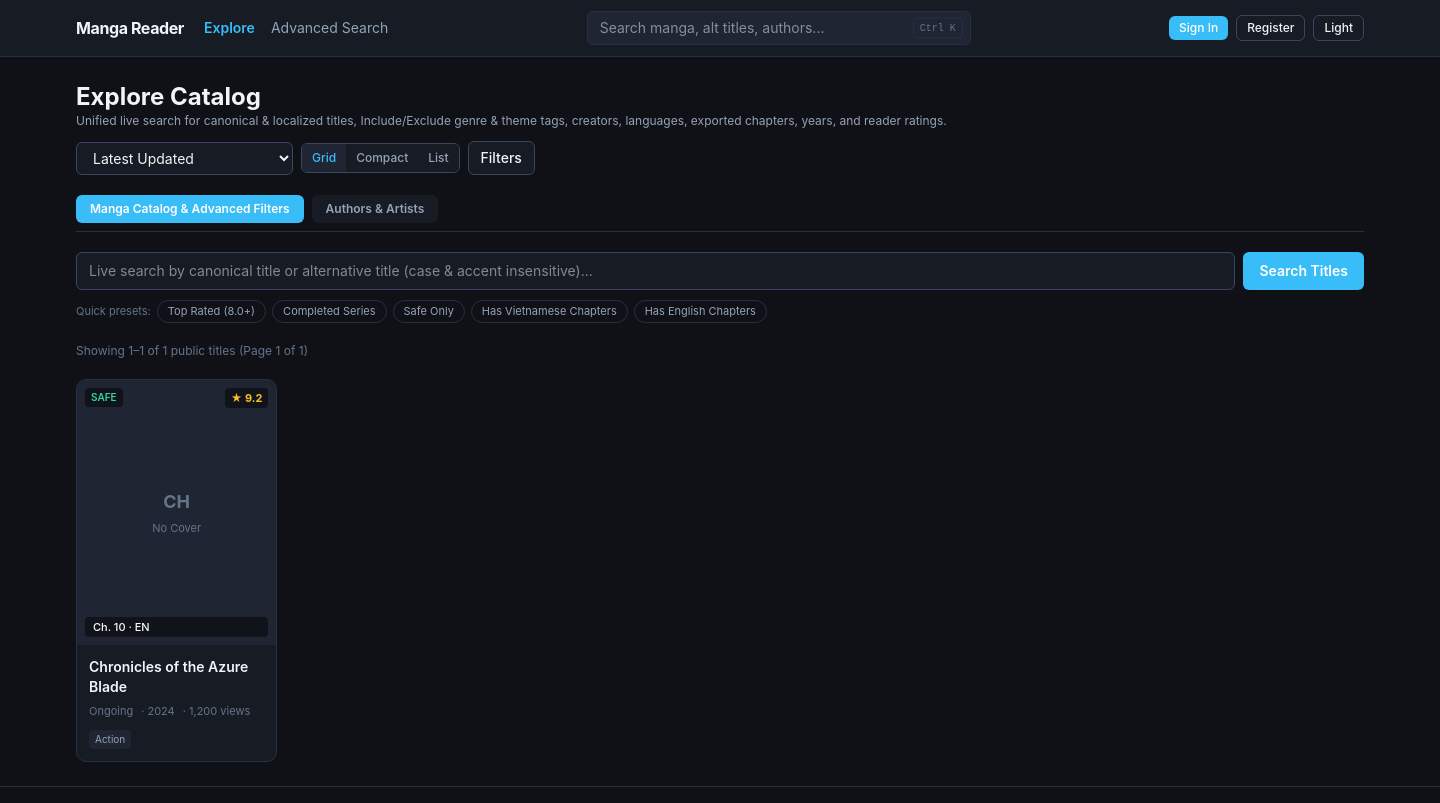
it: Manga Reader Frontend Application › renders explore filter drawer and tags from catalog API
Expected: the heading "Explore Catalog" is shown, x1=76 y1=82 x2=261 y2=111
What coordinates should you click on to do the following:
click the button "Filters"
I would click on:
 (501, 158)
Its box is x1=468 y1=141 x2=535 y2=175.
(page scrolled)
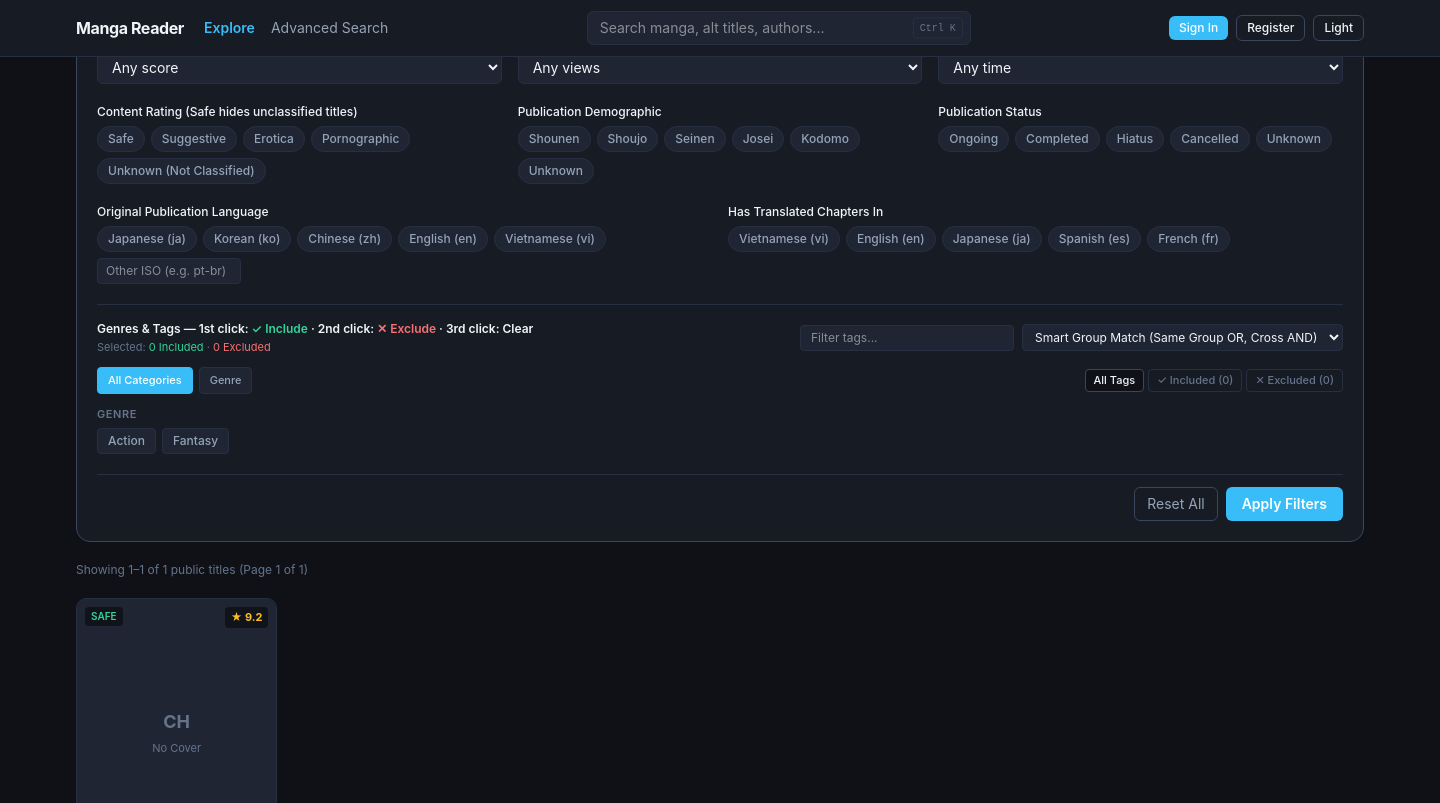
Expected: the button "Apply Filters" is shown, x1=1226 y1=487 x2=1343 y2=521
Expected: the button with aria-label "Action (Not selected)" is shown
What coordinates should you click on to do the following:
click the button with aria-label "Action (Not selected)"
I would click on:
 (126, 441)
Its box is x1=97 y1=428 x2=156 y2=454.
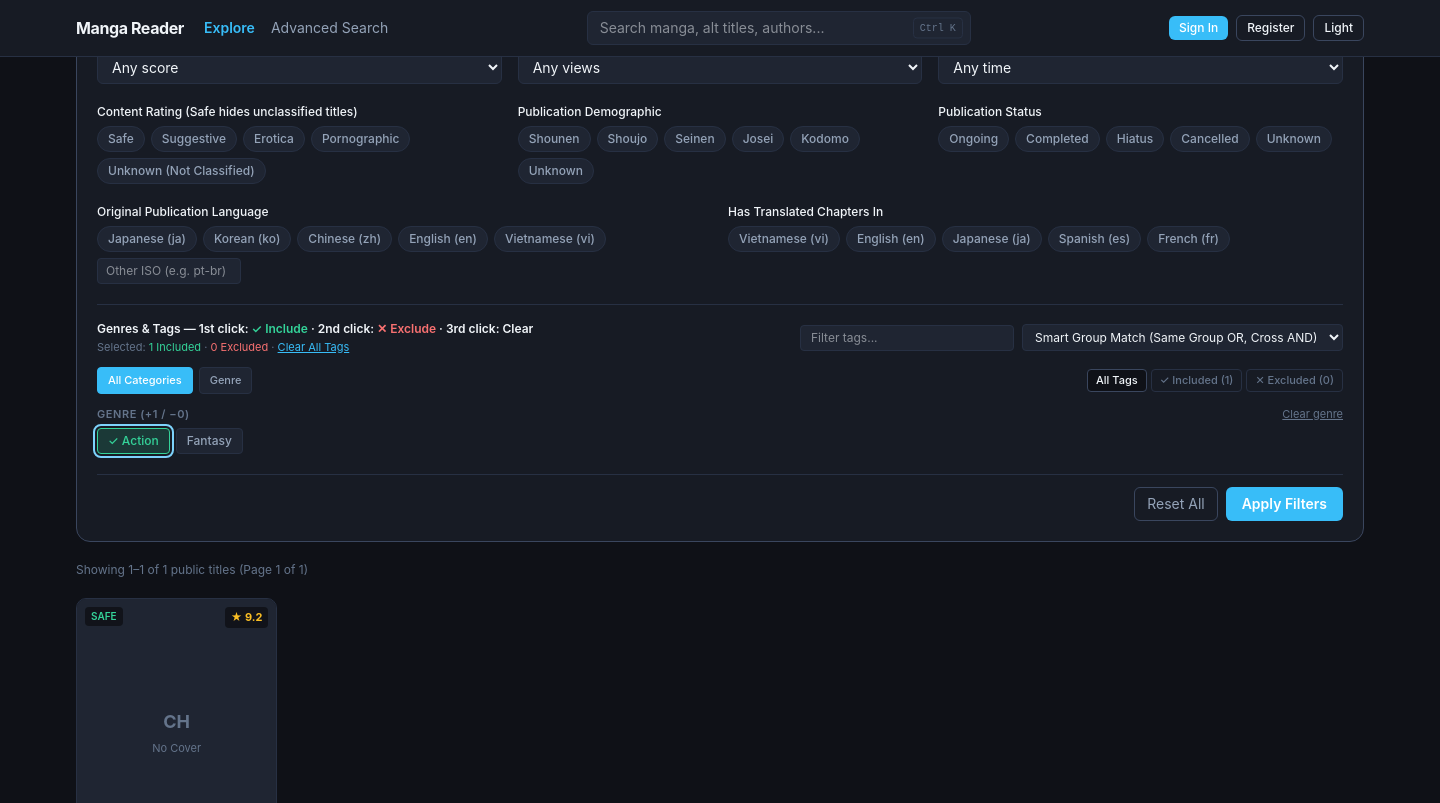
Expected: the button with aria-label "Action (Included)" is shown, x1=97 y1=428 x2=170 y2=454
What coordinates should you click on to do the following:
click the button "Apply Filters"
I would click on:
 (1284, 504)
Its box is x1=1226 y1=487 x2=1343 y2=521.
(page scrolled)
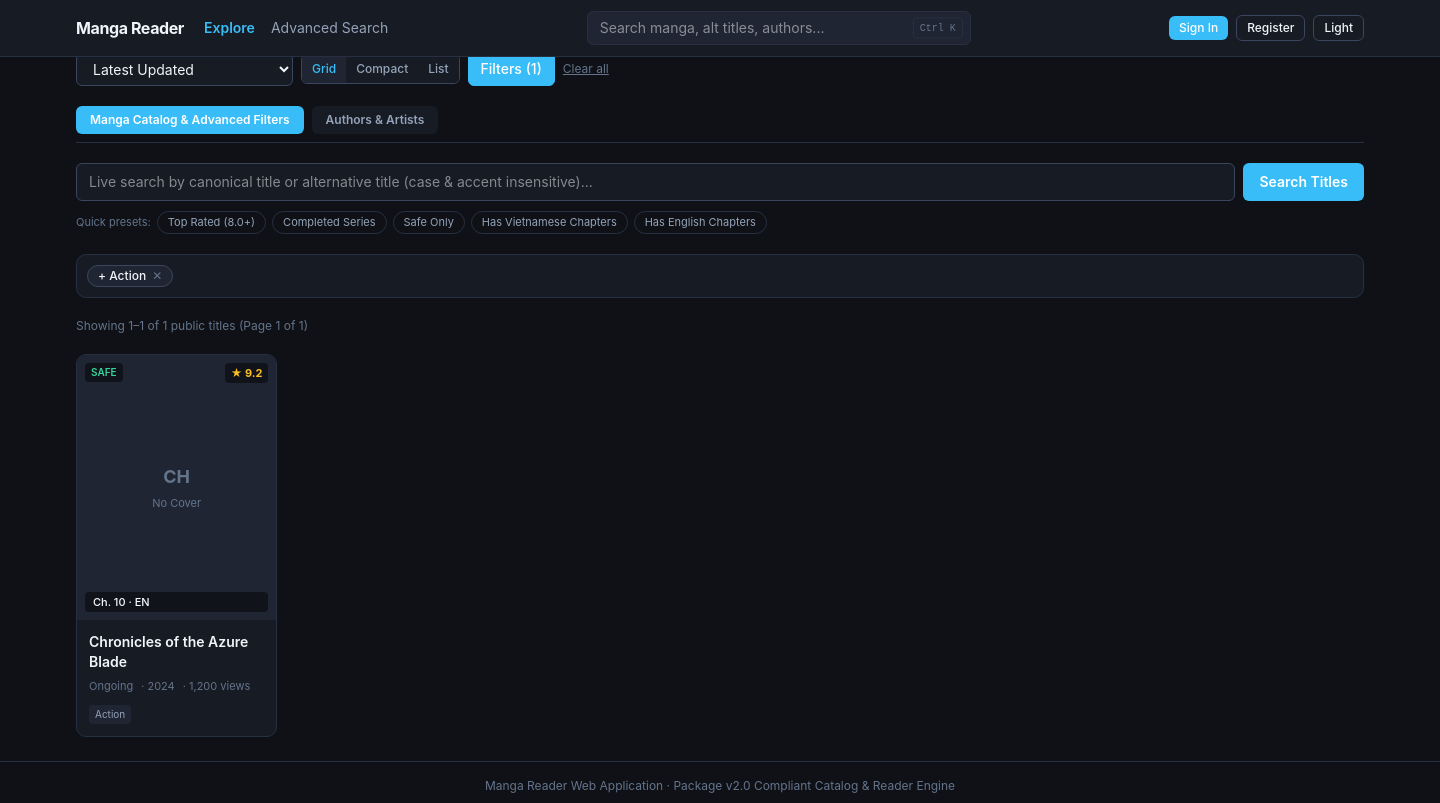
Expected: the button with aria-label "Remove filter + Action" is shown, x1=87 y1=264 x2=173 y2=286
